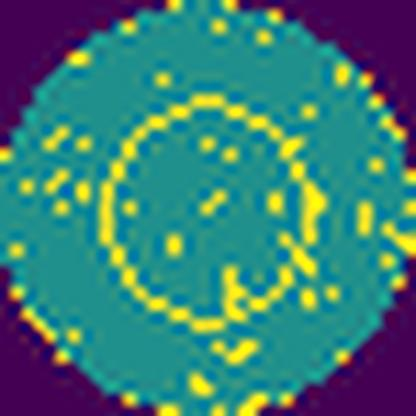Donut: (96, 89, 328, 339)
